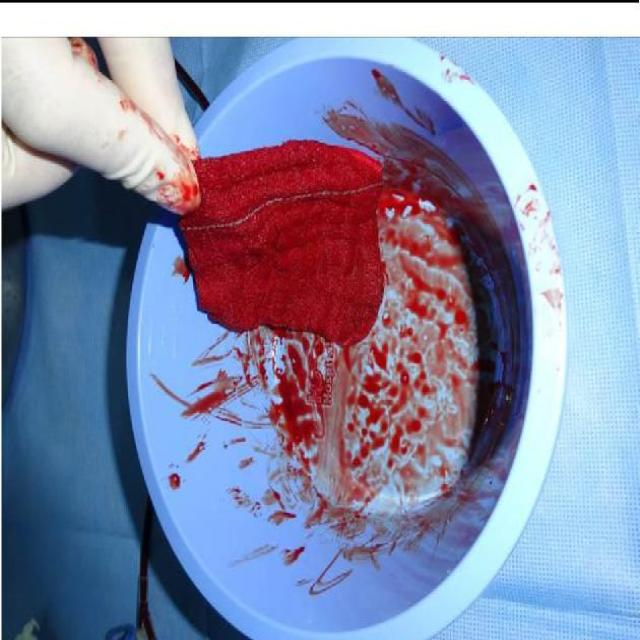B3: (177, 137, 385, 330)
